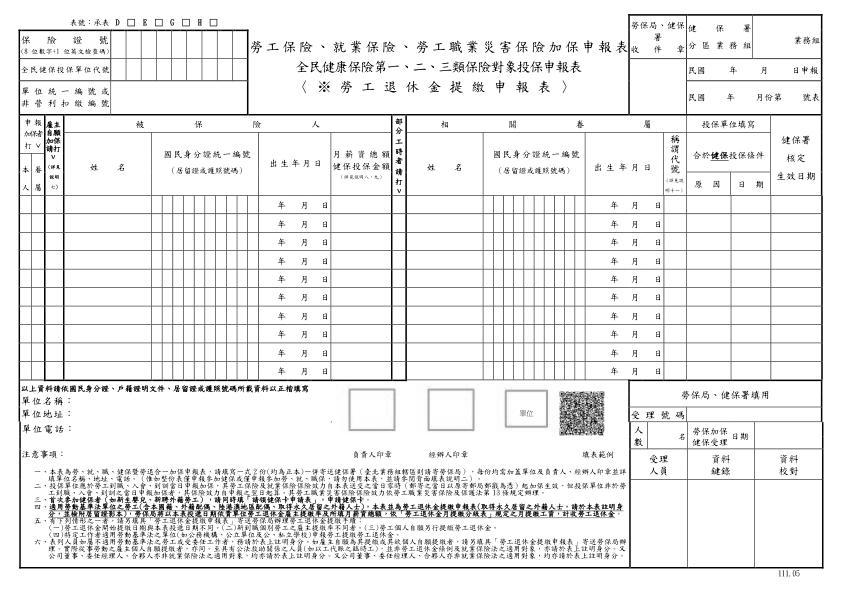check_box: (178, 14, 191, 28), (207, 16, 220, 28), (153, 15, 164, 29), (125, 17, 134, 27)
table: (14, 112, 828, 570), (627, 11, 824, 114), (17, 29, 249, 114)
text: (250, 33, 630, 97), (69, 17, 122, 27), (776, 568, 803, 579), (137, 17, 150, 27), (166, 17, 176, 27), (195, 16, 204, 27)
